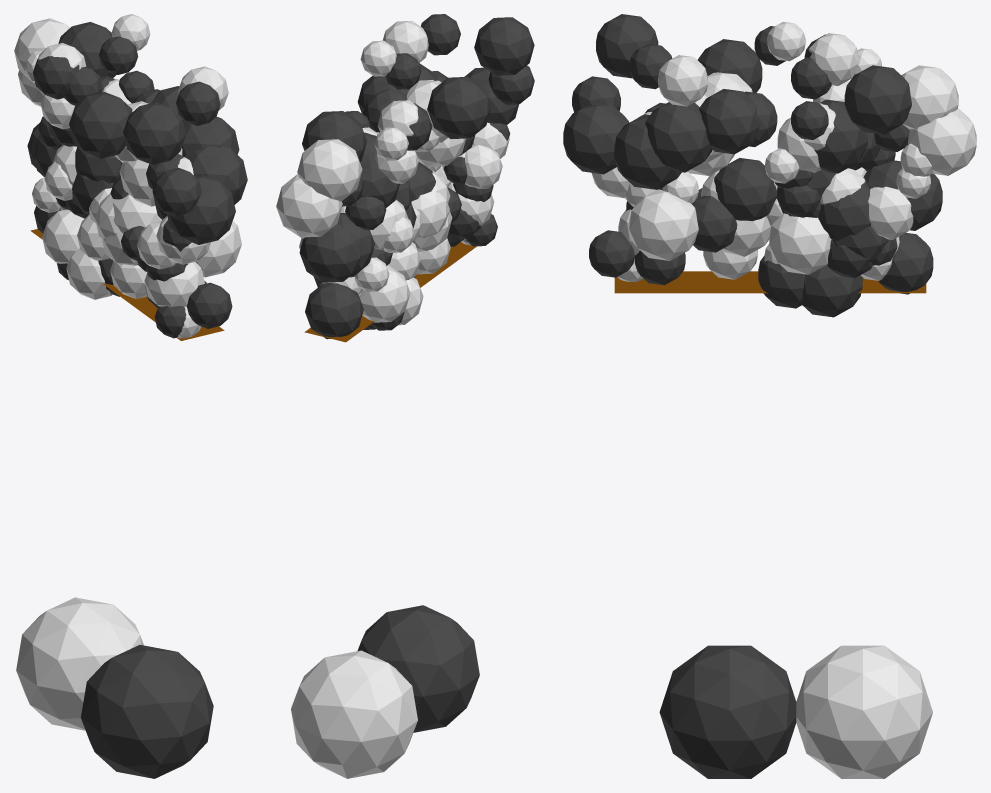
File: feu.fbx
The picture shows the model from 3 angles, left to right: view 1: azimuth 30°, elevation 25°; view 2: azimuth 150°, elevation 25°; view 3: azimuth 270°, elevation 25°; orthographic projection. The views are drawn at different scales.
Visible parts, largest first — view 1: Icosphere.001, Icosphere, Plane|Icosphere.001|Dupli|469, Plane|Icosphere.001|Dupli|457, Plane|Icosphere.001|Dupli|499, Plane|Icosphere.001|Dupli|515, Plane|Icosphere.001|Dupli|479, Plane|Icosphere|Dupli|566, Plane|Icosphere|Dupli|576, Plane|Icosphere.001|Dupli|571, Plane|Icosphere.001|Dupli|489, Plane|Icosphere.001|Dupli|471 (+33 smaller); view 2: Icosphere, Icosphere.001, Plane|Icosphere.001|Dupli|469, Plane|Icosphere|Dupli|490, Plane|Icosphere.001|Dupli|457, Plane|Icosphere|Dupli|488, Plane|Icosphere.001|Dupli|547, Plane|Icosphere.001|Dupli|575, Plane|Icosphere.001|Dupli|489, Plane|Icosphere|Dupli|576, Plane|Icosphere|Dupli|536, Plane|Icosphere|Dupli|476 (+32 smaller); view 3: Icosphere.001, Icosphere, Plane|Icosphere|Dupli|552, Plane|Icosphere.001|Dupli|489, Plane|Icosphere.001|Dupli|507, Plane|Icosphere.001|Dupli|499, Plane|Icosphere.001|Dupli|491, Plane|Icosphere|Dupli|488, Plane|Icosphere.001|Dupli|545, Plane|Icosphere|Dupli|562, Plane, Plane|Icosphere.001|Dupli|515 (+35 smaller).
Boxes of the visible parts, x1=… form: Icosphere.001: x1=81, y1=644, x2=213, y2=778; Icosphere: x1=16, y1=597, x2=143, y2=730; Plane|Icosphere.001|Dupli|469: x1=69, y1=92, x2=132, y2=158; Plane|Icosphere.001|Dupli|457: x1=123, y1=102, x2=185, y2=164; Plane|Icosphere.001|Dupli|499: x1=167, y1=175, x2=235, y2=244; Plane|Icosphere.001|Dupli|515: x1=184, y1=146, x2=247, y2=204; Plane|Icosphere.001|Dupli|479: x1=152, y1=167, x2=201, y2=216; Plane|Icosphere|Dupli|566: x1=144, y1=262, x2=204, y2=306; Plane|Icosphere|Dupli|576: x1=42, y1=209, x2=84, y2=263; Plane|Icosphere.001|Dupli|571: x1=186, y1=282, x2=232, y2=328; Plane|Icosphere.001|Dupli|489: x1=58, y1=22, x2=116, y2=77; Plane|Icosphere.001|Dupli|471: x1=176, y1=81, x2=220, y2=125; Icosphere: x1=291, y1=650, x2=417, y2=778; Icosphere.001: x1=357, y1=605, x2=479, y2=732; Plane|Icosphere.001|Dupli|469: x1=427, y1=76, x2=491, y2=139; Plane|Icosphere|Dupli|490: x1=297, y1=139, x2=362, y2=201; Plane|Icosphere.001|Dupli|457: x1=474, y1=17, x2=534, y2=75; Plane|Icosphere|Dupli|488: x1=276, y1=174, x2=342, y2=237; Plane|Icosphere.001|Dupli|547: x1=299, y1=223, x2=360, y2=282; Plane|Icosphere.001|Dupli|575: x1=305, y1=283, x2=363, y2=339; Plane|Icosphere.001|Dupli|489: x1=302, y1=111, x2=366, y2=161; Plane|Icosphere|Dupli|576: x1=360, y1=265, x2=410, y2=322; Plane|Icosphere|Dupli|536: x1=464, y1=145, x2=502, y2=188; Plane|Icosphere|Dupli|476: x1=383, y1=20, x2=428, y2=62; Icosphere.001: x1=659, y1=645, x2=796, y2=778; Icosphere: x1=796, y1=645, x2=932, y2=778; Plane|Icosphere|Dupli|552: x1=629, y1=189, x2=698, y2=260; Plane|Icosphere.001|Dupli|489: x1=844, y1=65, x2=911, y2=134; Plane|Icosphere.001|Dupli|507: x1=645, y1=102, x2=712, y2=172; Plane|Icosphere.001|Dupli|499: x1=563, y1=104, x2=629, y2=174; Plane|Icosphere.001|Dupli|491: x1=699, y1=89, x2=759, y2=154; Plane|Icosphere|Dupli|488: x1=908, y1=108, x2=976, y2=175; Plane|Icosphere.001|Dupli|545: x1=714, y1=158, x2=777, y2=221; Plane|Icosphere|Dupli|562: x1=769, y1=213, x2=831, y2=274; Plane: x1=614, y1=271, x2=926, y2=293; Plane|Icosphere.001|Dupli|515: x1=614, y1=114, x2=681, y2=189.
Size of the model in its own units: 105 by 539 by 266.
